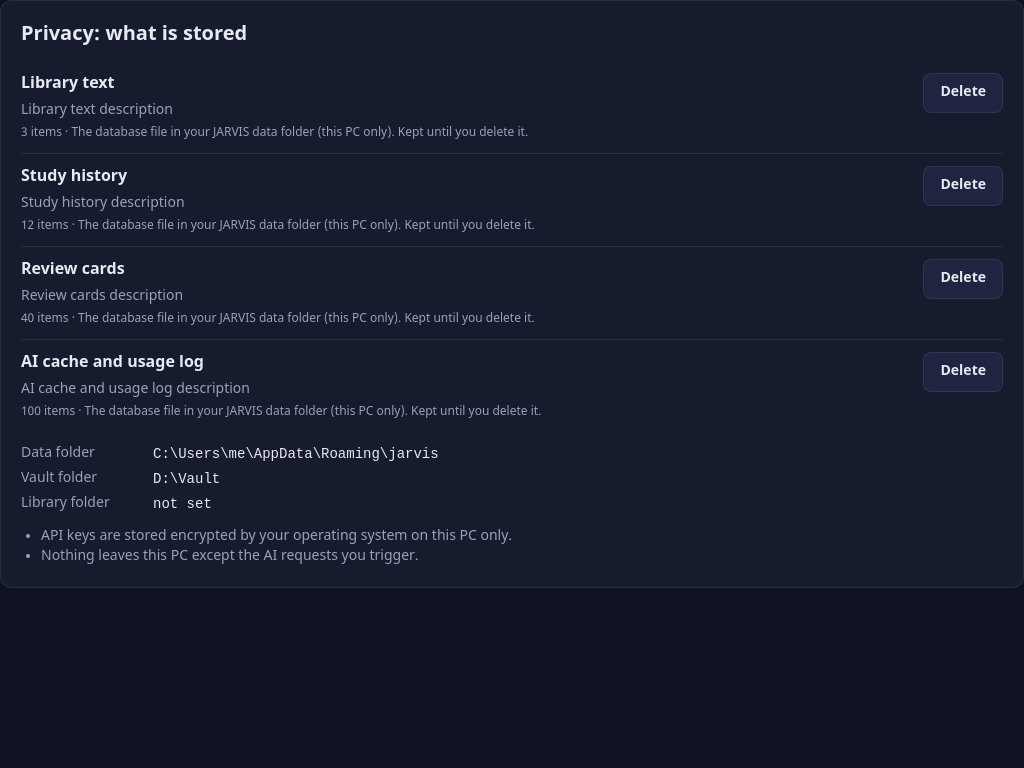
Test case: PrivacyPanel › asks for confirmation, with the warning, before deleting
Step 1. Click the button with aria-label "delete library text" → (963, 93), box [924, 73, 1003, 113]
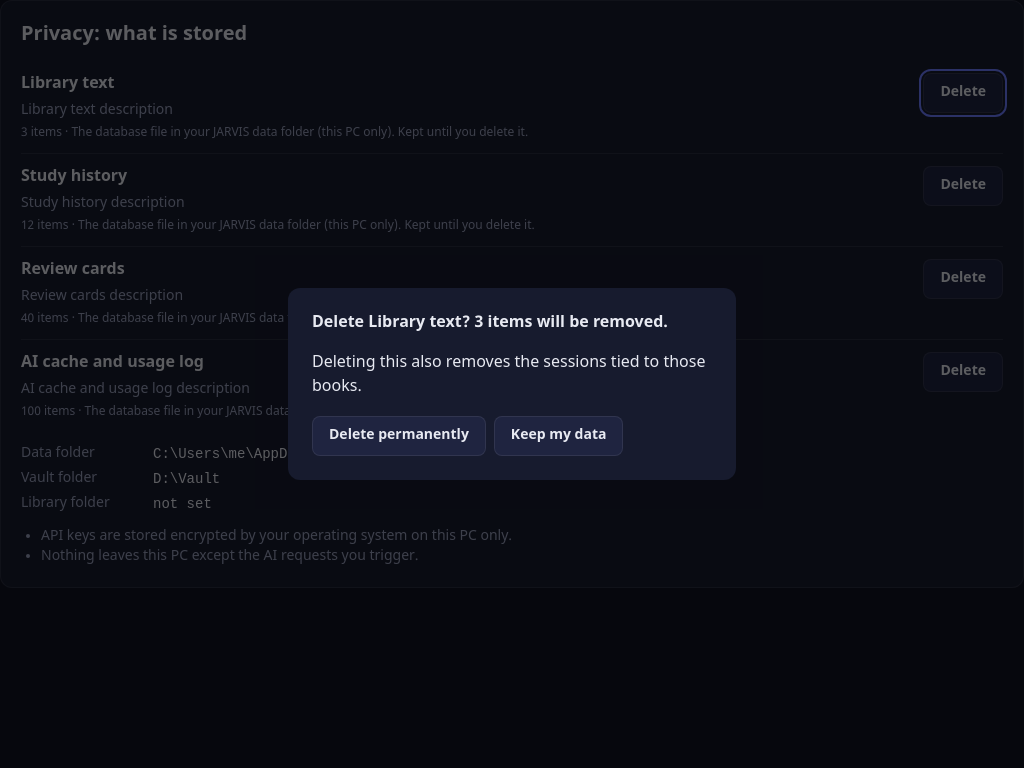
Expected: the dialog shows "sessions tied to those books", [312, 353, 706, 398]
Step 2. Click the button "Keep my data" → (559, 436), box [494, 416, 624, 456]
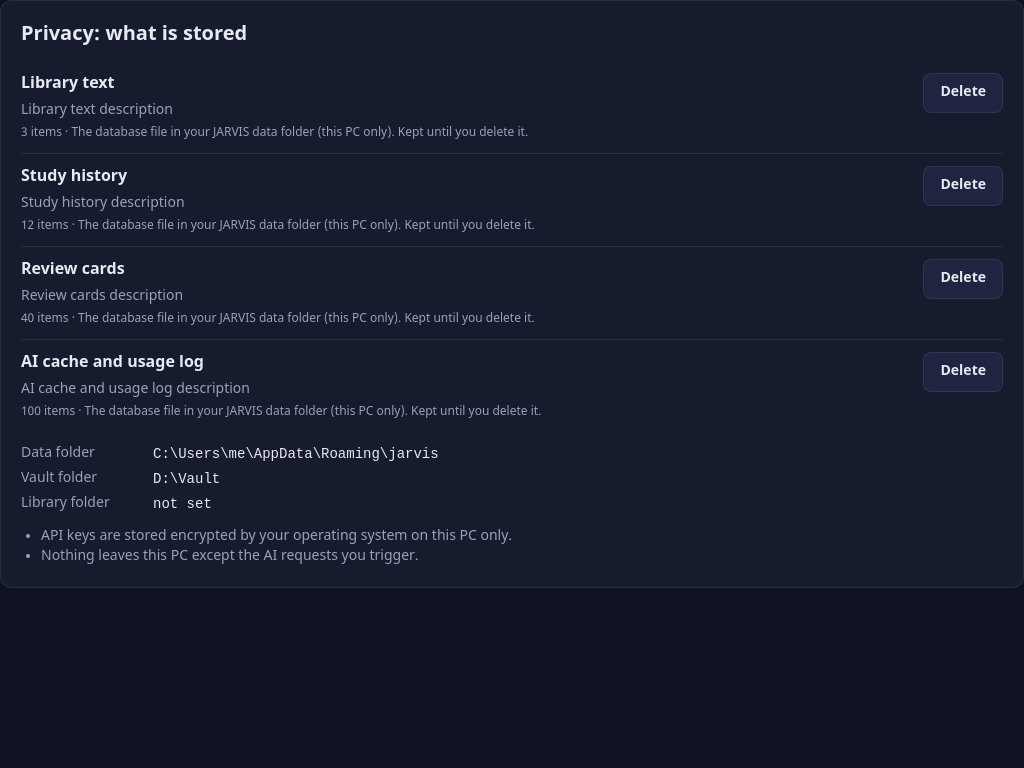
Expected: the dialog is gone
